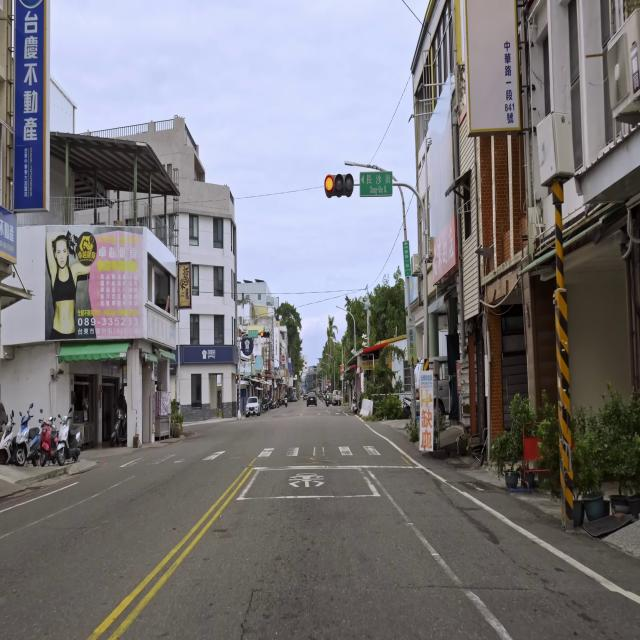red light: (324, 174, 354, 193), (260, 332, 270, 337)
